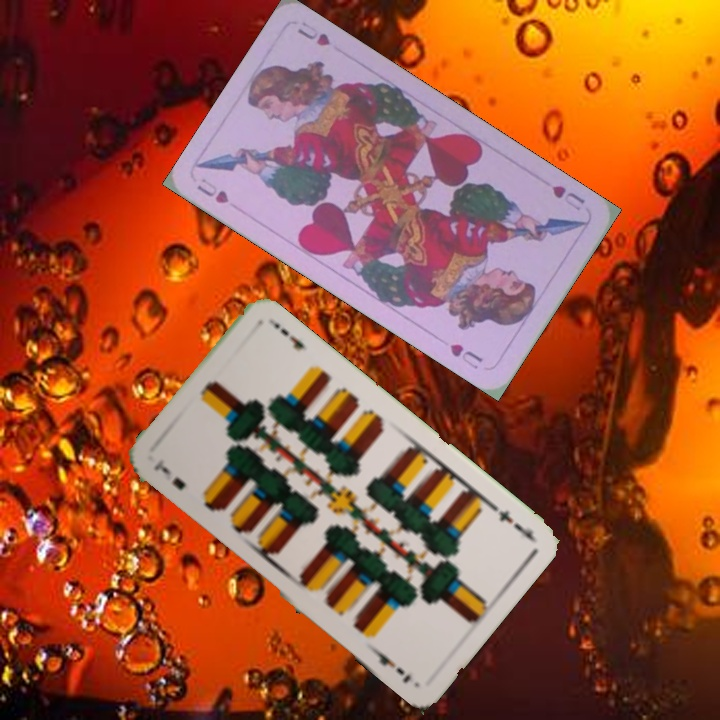E7: (486, 500, 537, 543), (150, 456, 189, 493)
HU: (548, 181, 588, 214), (193, 174, 232, 206)
